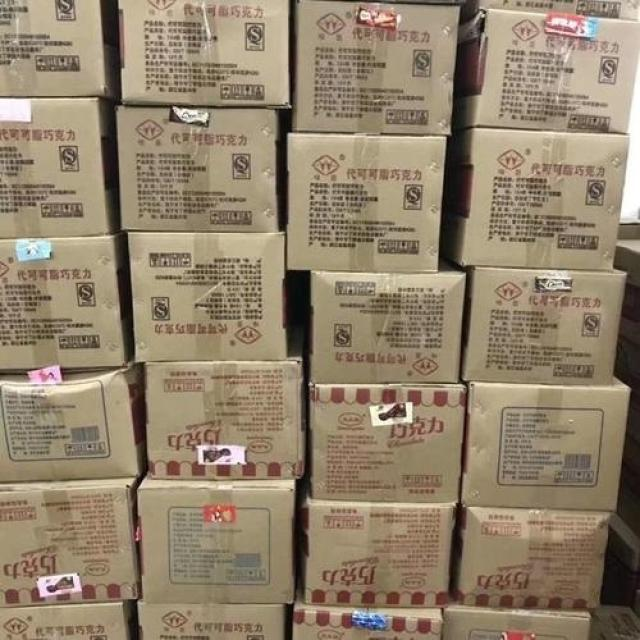Carton: (283, 133, 626, 616), (116, 104, 280, 357), (0, 97, 125, 371), (461, 127, 628, 268), (294, 0, 457, 131), (475, 10, 639, 129), (145, 361, 297, 480), (136, 490, 289, 607), (116, 0, 285, 102), (0, 483, 136, 604), (0, 369, 136, 481), (305, 503, 449, 607)
